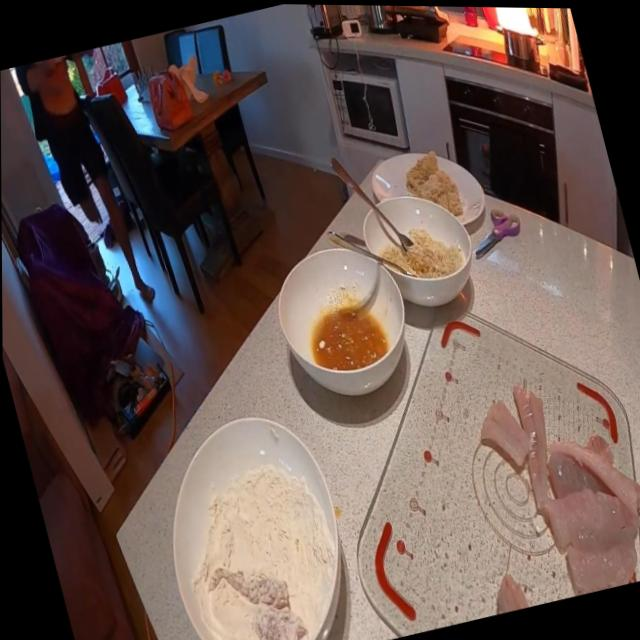fire: (466, 5, 545, 48)
